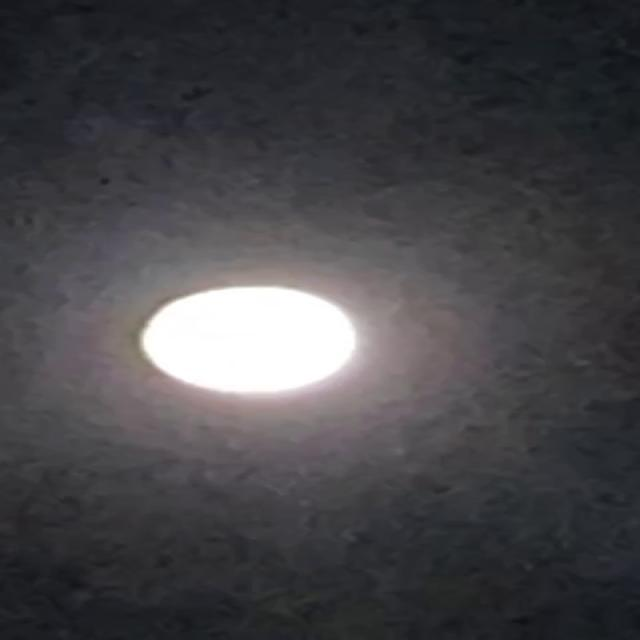moon: (118, 280, 373, 421)
